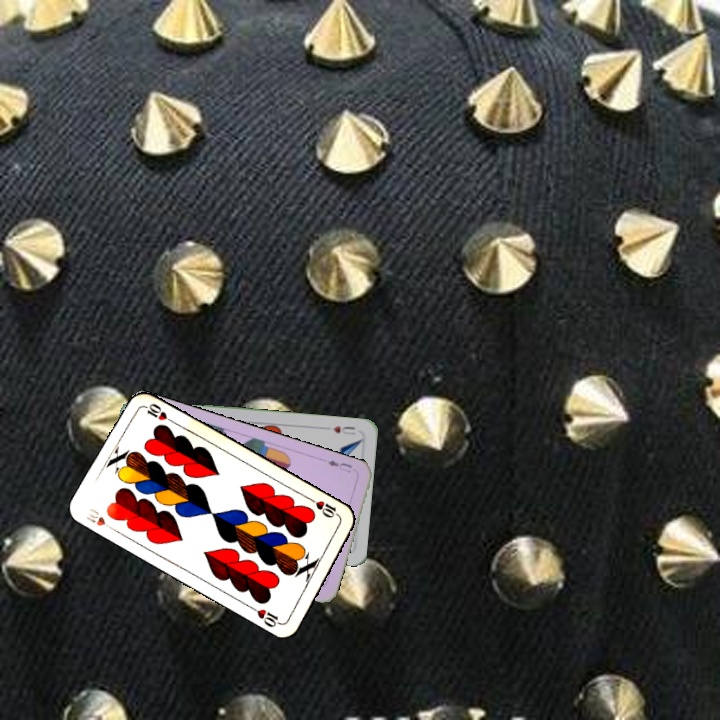EU: (324, 456, 355, 476)
H10: (82, 504, 118, 534), (311, 497, 343, 521)
HU: (321, 422, 357, 438)
